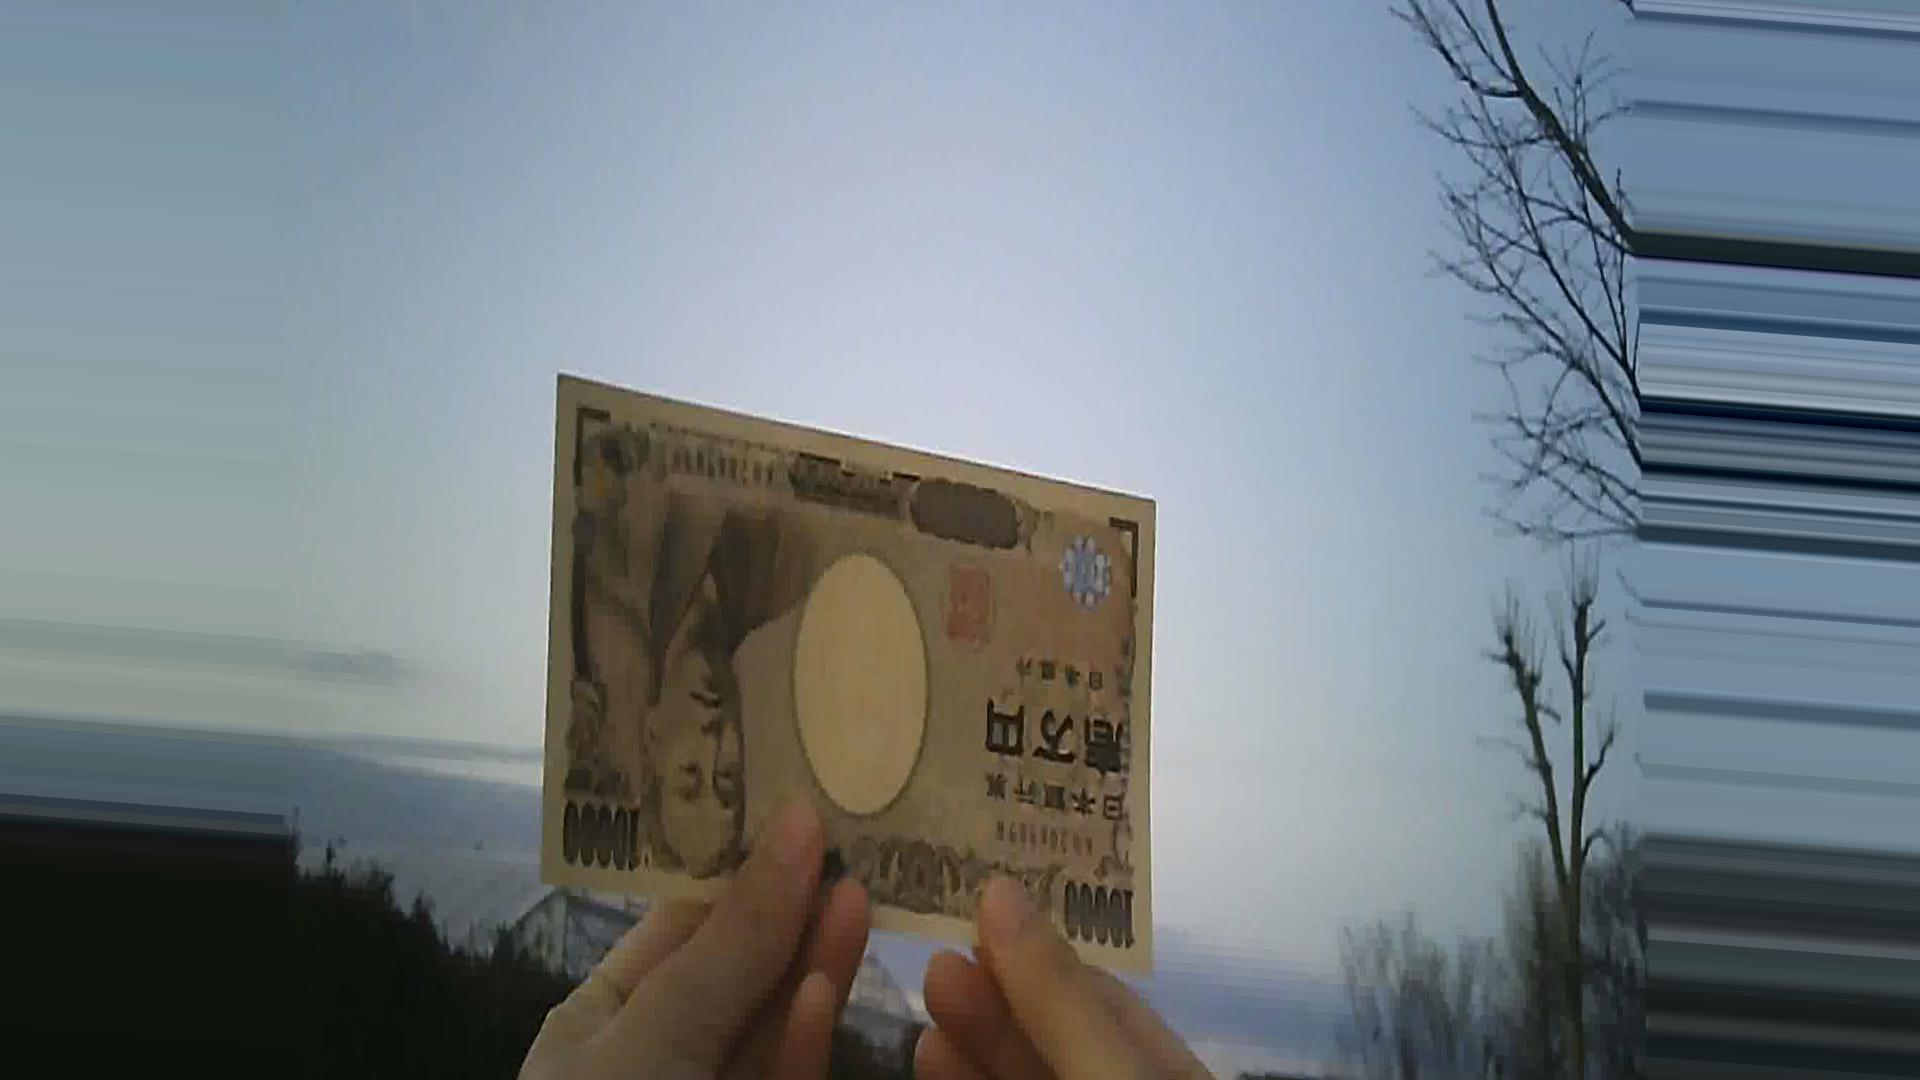10,000 Yen: (527, 347, 1164, 981)
